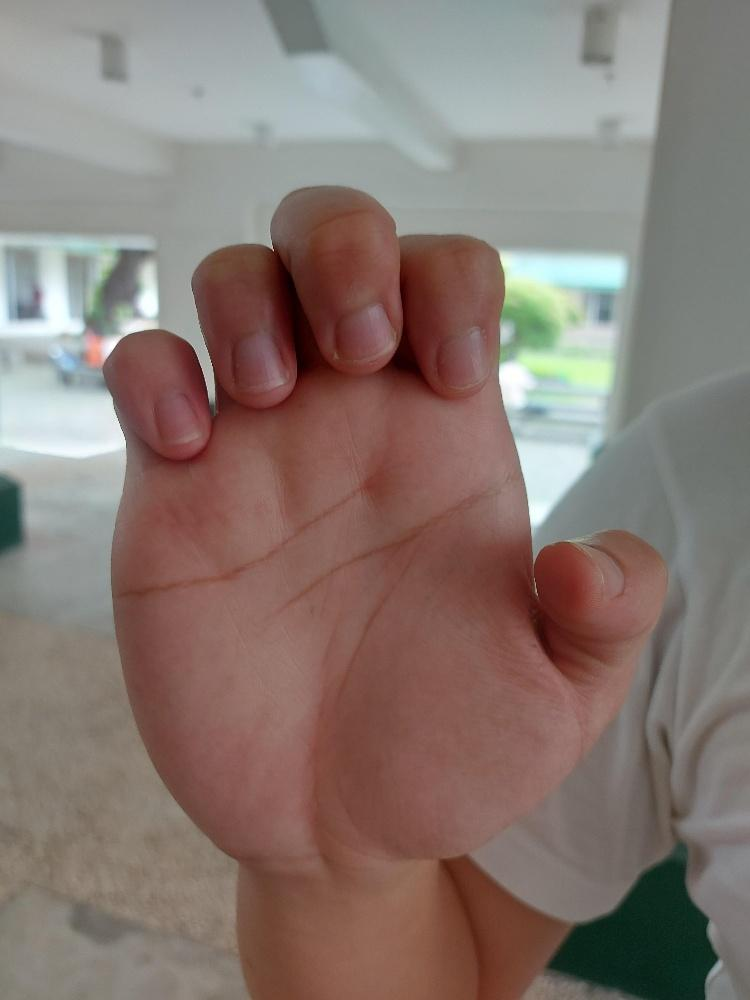e: (95, 178, 672, 879)
